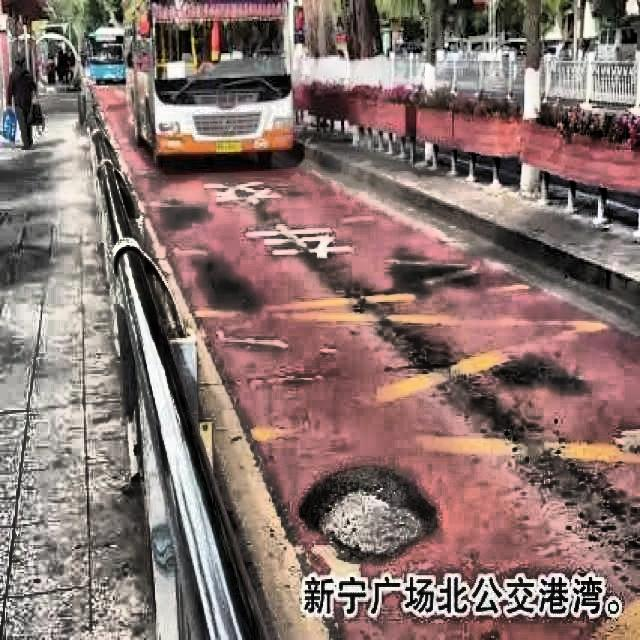buraco: (297, 464, 438, 556)
